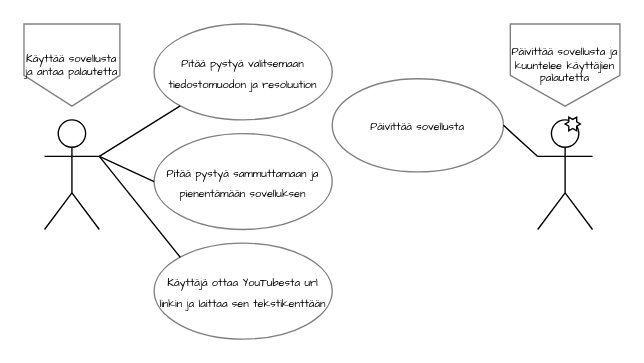
Image size: 644x363. Some labels were removed from this diagram. Here are the shapes that lost their labels. From the top down, the box of each, then its label:
(43, 119, 99, 229): Käyttäjä
(536, 119, 593, 229): Ylläpitäjä
